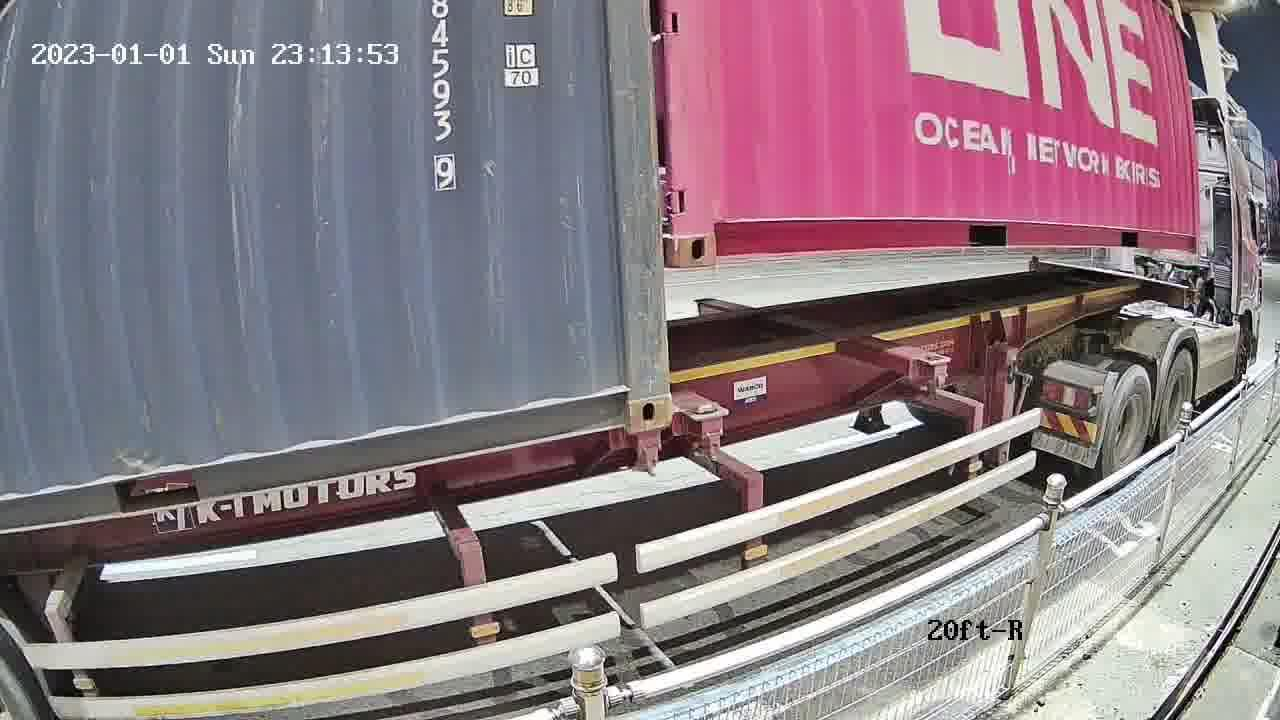Cone: (682, 397, 727, 461), (627, 428, 665, 475)
Hole_L: (671, 186, 759, 267)
Hole_R: (577, 350, 671, 433)
Tire: (1104, 371, 1153, 484), (1159, 350, 1197, 450)
